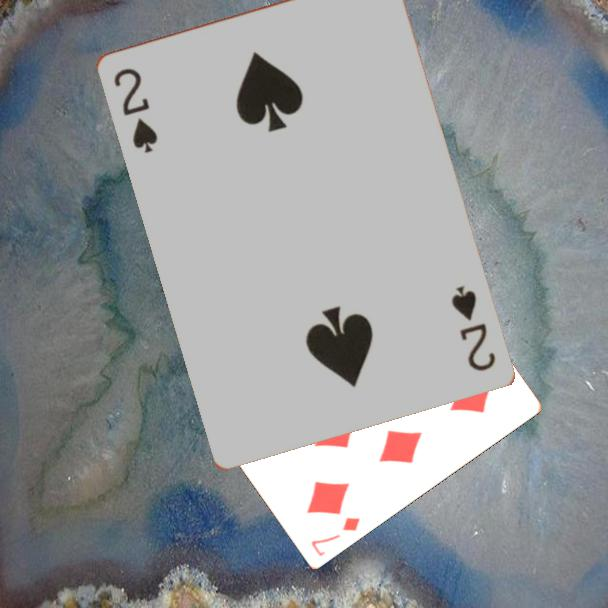d07: (307, 514, 363, 560)
s02: (447, 282, 498, 374), (110, 64, 160, 156)
